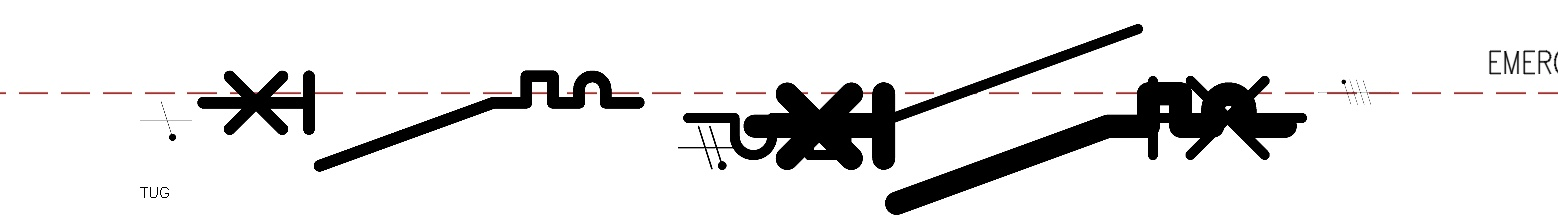interruptor_termomagnetico: (672, 13, 1318, 171), (741, 80, 1299, 216), (191, 65, 649, 177)
